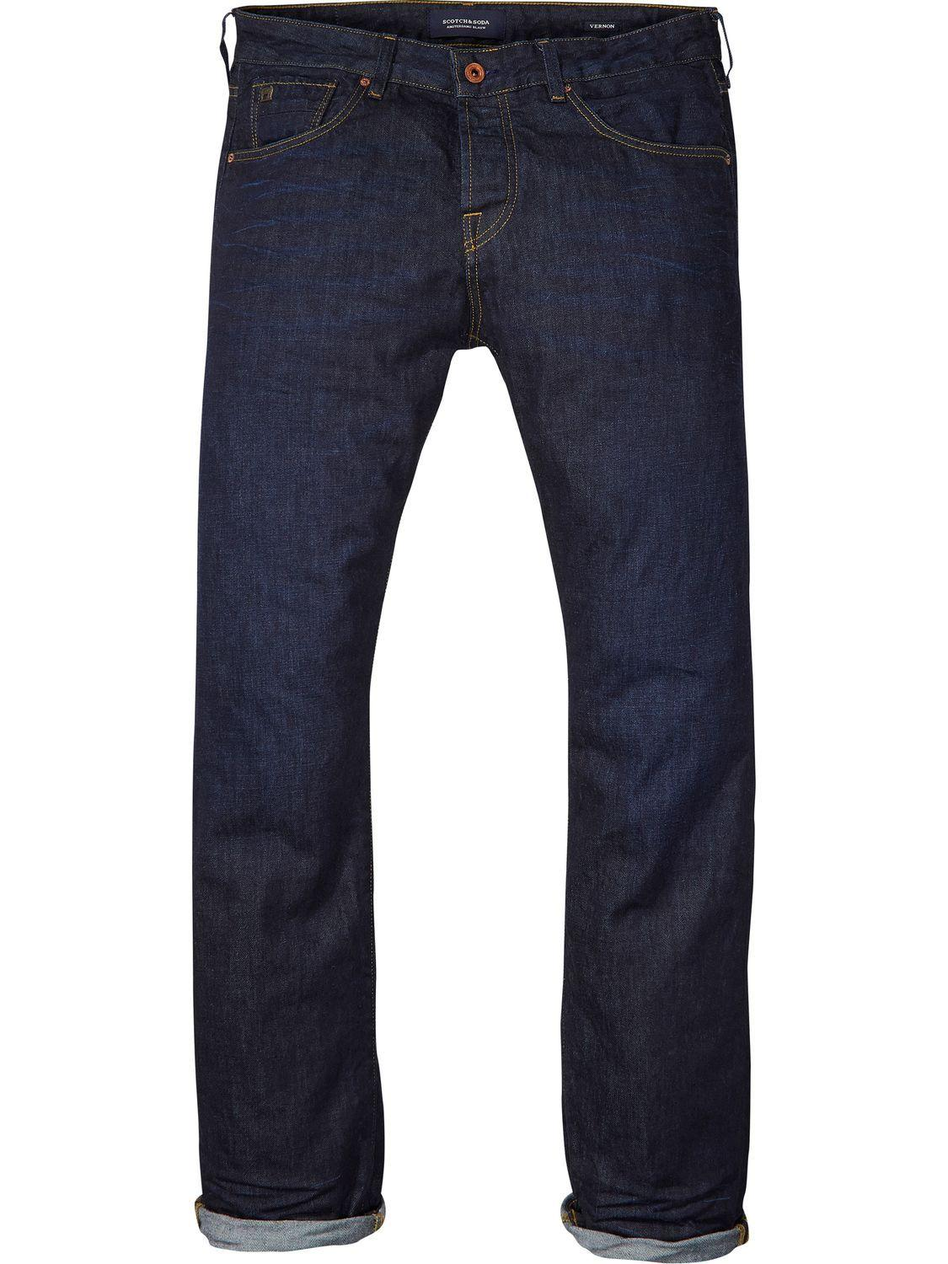Jeans: (177, 0, 770, 1264)
